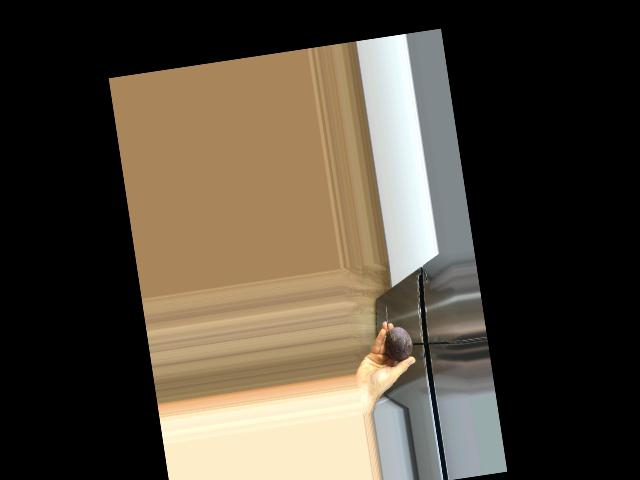beet: (380, 302, 414, 362)
